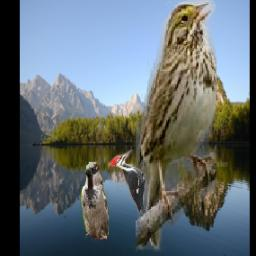Sparrow: (136, 0, 216, 253), (80, 159, 109, 245)
Woodpecker: (109, 150, 147, 225)
